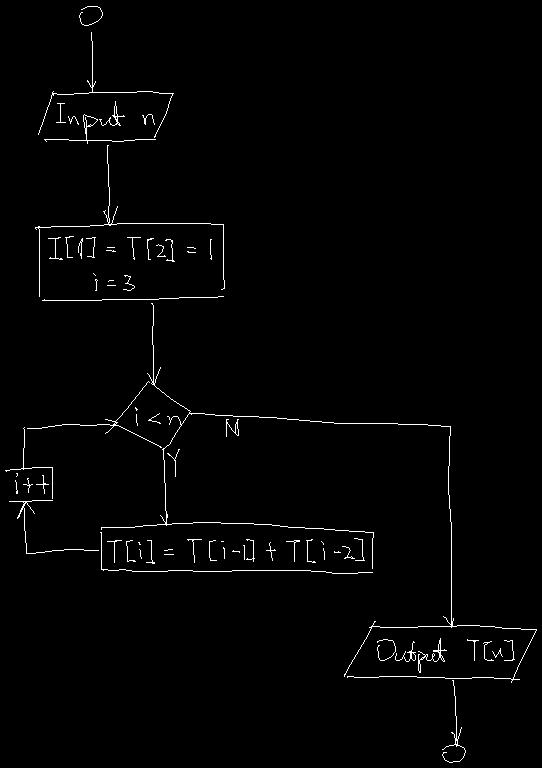arrow: (189, 412, 453, 627), (23, 419, 117, 469), (17, 502, 98, 553), (103, 145, 117, 225), (147, 303, 160, 385), (451, 680, 461, 746), (160, 449, 167, 525), (87, 32, 95, 92)
connection: (79, 6, 102, 25), (442, 744, 465, 762)
data: (344, 621, 536, 682), (38, 91, 173, 141)
decision: (112, 381, 190, 449)
process: (35, 223, 224, 300), (100, 522, 373, 573), (5, 467, 52, 501)
text: (48, 236, 211, 290), (107, 538, 364, 563), (377, 638, 514, 672), (56, 101, 154, 143), (135, 407, 180, 425), (15, 473, 48, 493), (167, 449, 179, 476), (226, 419, 238, 436)
